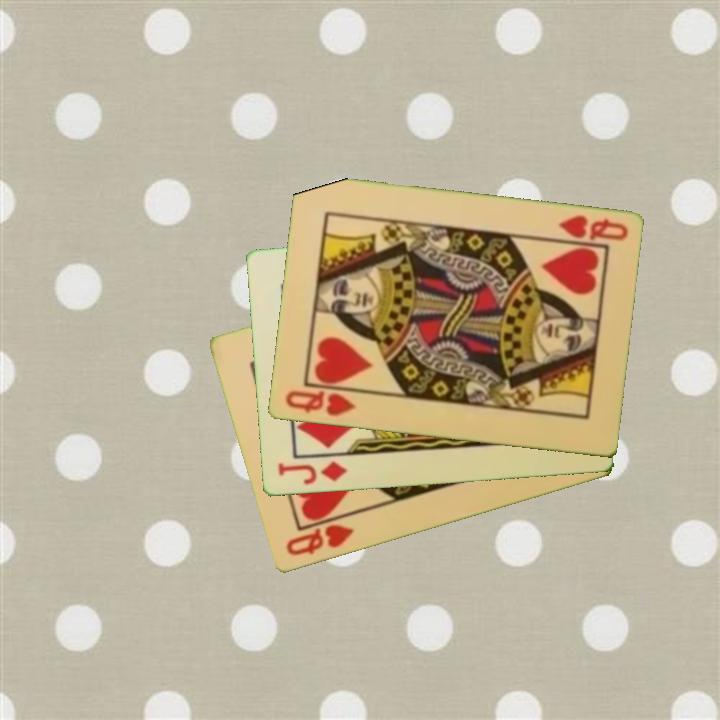Jd: (274, 458, 350, 488)
Qh: (282, 521, 357, 559), (282, 387, 359, 420), (554, 212, 631, 244)
